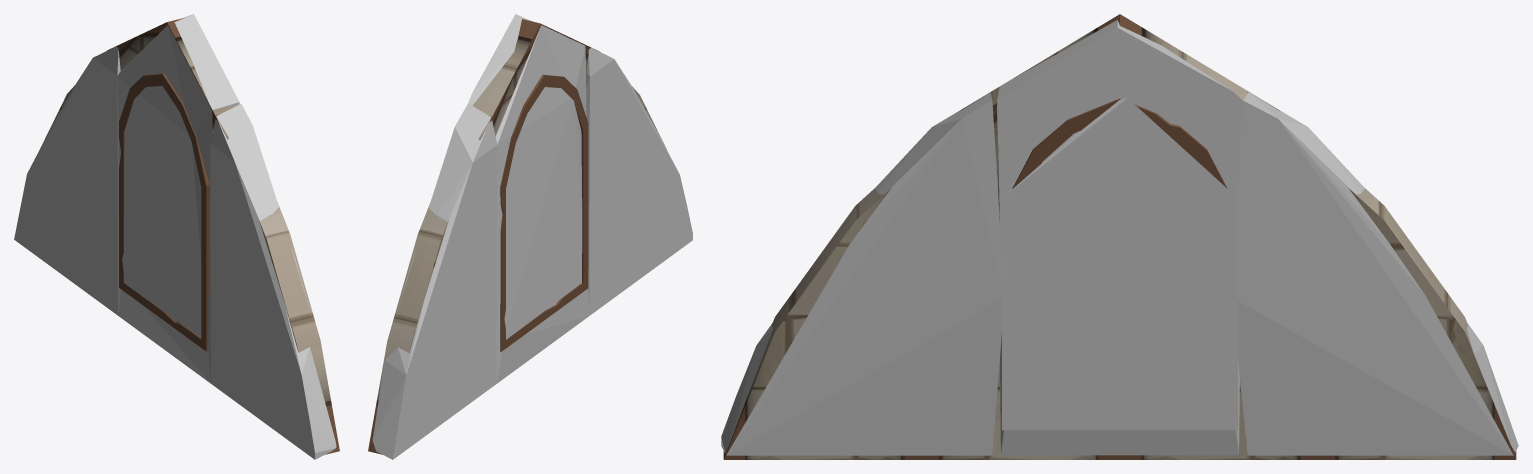
The model's file is SM_Bld_Wall_End_Convex_Large_Window_01.fbx.
The picture shows the model from 3 angles, left to right: view 1: azimuth 30°, elevation 25°; view 2: azimuth 150°, elevation 25°; view 3: azimuth 270°, elevation 25°; orthographic projection. The views are drawn at different scales.
Parts seen in each view (by area): view 1: SM_Bld_Wall_End_Convex_Large_Window_01_ConvexHulls, SM_Bld_Wall_End_Convex_Large_Window_01; view 2: SM_Bld_Wall_End_Convex_Large_Window_01_ConvexHulls, SM_Bld_Wall_End_Convex_Large_Window_01; view 3: SM_Bld_Wall_End_Convex_Large_Window_01_ConvexHulls, SM_Bld_Wall_End_Convex_Large_Window_01.
Boxes of the visible parts, x1,y1,x2,y2 form: SM_Bld_Wall_End_Convex_Large_Window_01_ConvexHulls: (14,14,336,459); SM_Bld_Wall_End_Convex_Large_Window_01: (41,18,339,454); SM_Bld_Wall_End_Convex_Large_Window_01_ConvexHulls: (372,14,692,459); SM_Bld_Wall_End_Convex_Large_Window_01: (368,19,666,454); SM_Bld_Wall_End_Convex_Large_Window_01_ConvexHulls: (721,20,1518,455); SM_Bld_Wall_End_Convex_Large_Window_01: (723,14,1516,459).
Bounding box in the file's own units: 33.45 × 503 × 304.
Materials: 3 (2 with a texture image).
